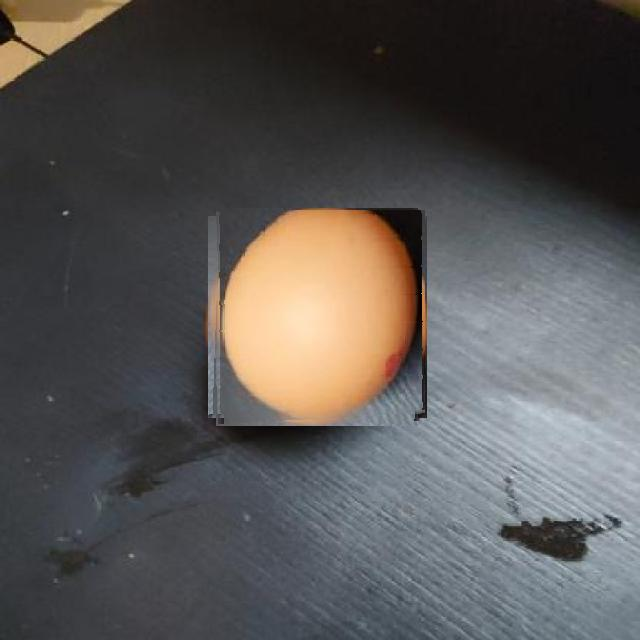biodegradable: (210, 210, 425, 424)
